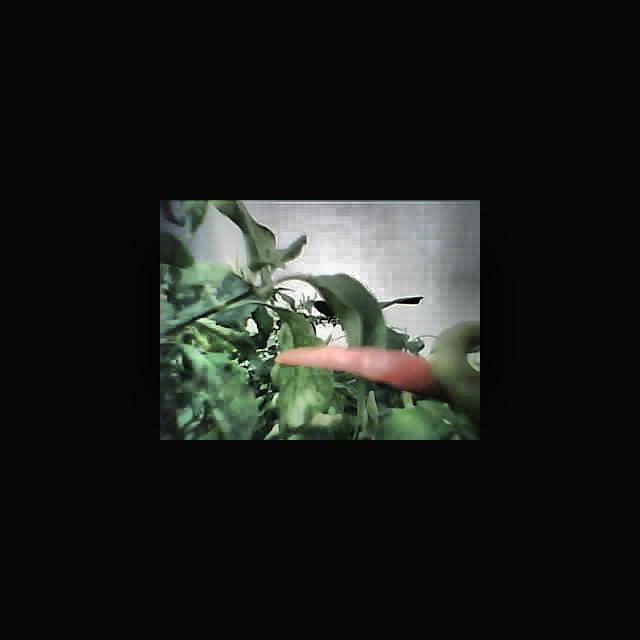Cabai: (289, 345, 436, 392)
